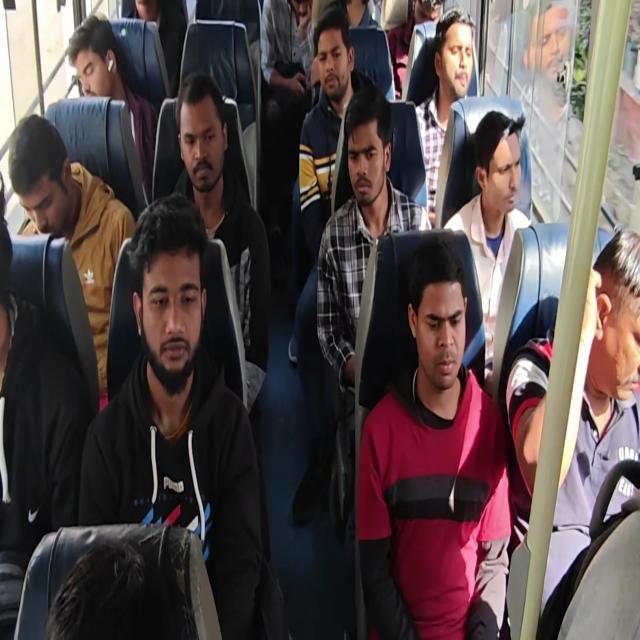person: (46, 516, 184, 640), (578, 212, 640, 421), (142, 212, 200, 369), (1, 121, 82, 233), (409, 262, 467, 413), (161, 77, 227, 199), (61, 5, 133, 109), (479, 110, 525, 216), (428, 3, 474, 99), (316, 34, 362, 117), (348, 112, 382, 197), (398, 0, 454, 39)
